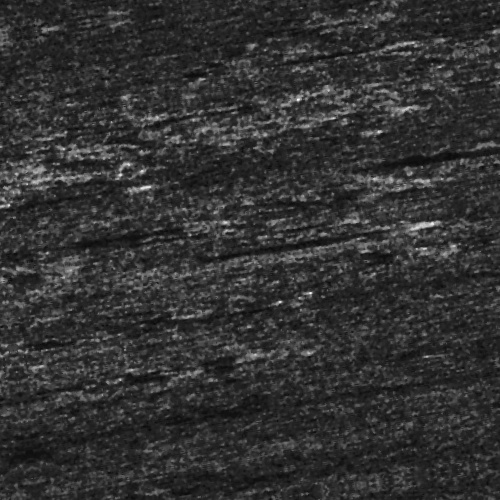object: (398, 59, 471, 74), (0, 138, 106, 147), (349, 244, 454, 253), (160, 208, 243, 219), (131, 164, 184, 173), (153, 355, 206, 364), (480, 178, 500, 193)
shadow: (377, 178, 500, 193), (196, 244, 401, 253), (92, 208, 201, 219), (50, 164, 157, 173), (388, 59, 434, 74), (124, 355, 179, 364), (0, 138, 39, 147)
